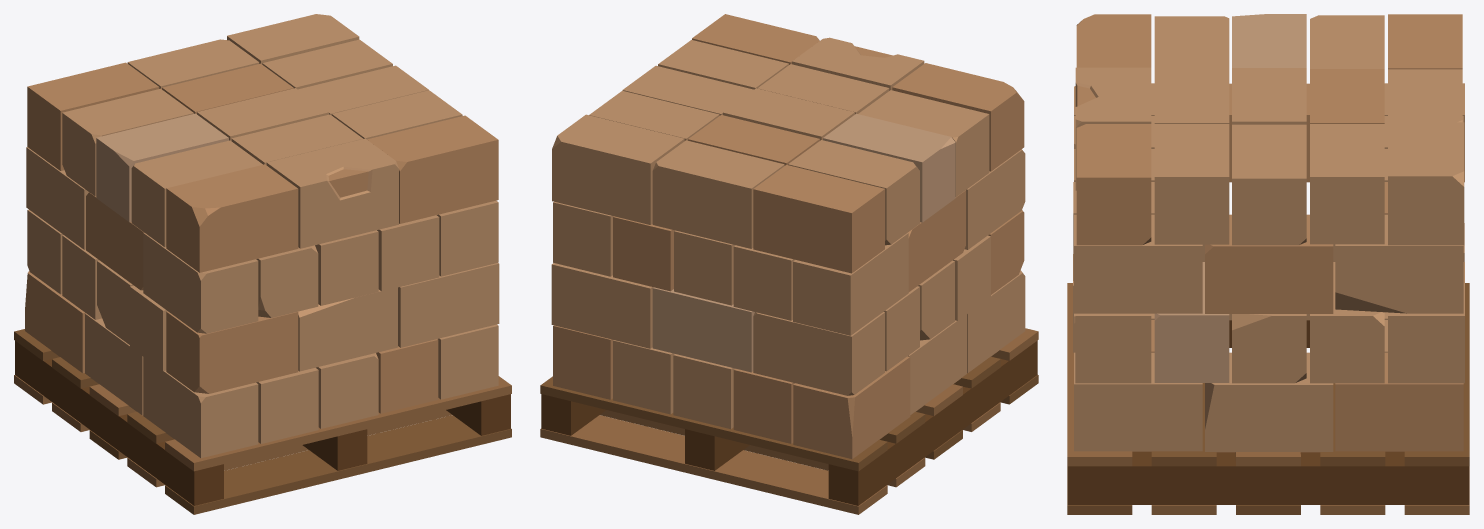
File: Pallet_02.fbx
The picture shows the model from 3 angles, left to right: view 1: azimuth 30°, elevation 25°; view 2: azimuth 150°, elevation 25°; view 3: azimuth 270°, elevation 25°; orthographic projection. The views are drawn at different scales.
Visible parts, largest first — view 1: Pallet_02; view 2: Pallet_02; view 3: Pallet_02.
Boxes of the visible parts, box(x1,y1,x2,y2) form: Pallet_02: box(14, 14, 511, 514); Pallet_02: box(540, 14, 1038, 514); Pallet_02: box(1067, 14, 1469, 514).
Size of the model in its own units: 100 by 90 by 98.32.
